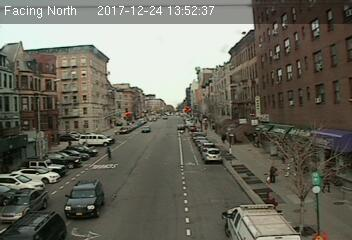bicycle: (106, 145, 112, 162)
car: (63, 178, 104, 220), (1, 188, 47, 222), (202, 148, 221, 162)
truck: (220, 204, 299, 240)
